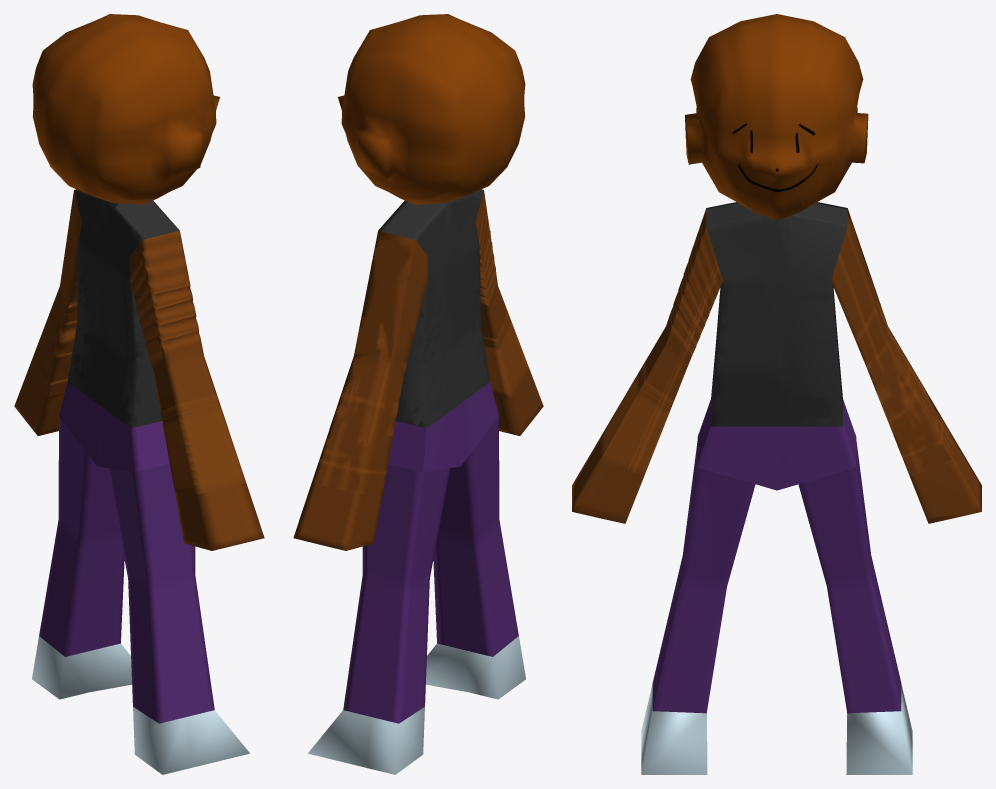
The model's file is Muscle_kun.fbx.
The picture shows the model from 3 angles, left to right: view 1: azimuth 30°, elevation 25°; view 2: azimuth 150°, elevation 25°; view 3: azimuth 270°, elevation 25°; orthographic projection. The views are drawn at different scales.
Visible parts, largest first — view 1: ズボン, 頭部, 右腕, 胴体, 靴, 左腕, 右手, 左手; view 2: ズボン, 頭部, 左腕, 胴体, 靴, 右腕, 左手, 右手; view 3: ズボン, 頭部, 胴体, 左腕, 右腕, 靴, 左手, 右手.
Part boxes in pixels (x1,y1,x2,y2): ズボン: (39,382,214,723); 頭部: (32,14,219,204); 右腕: (130,230,246,494); 胴体: (67,189,179,428); 靴: (32,636,249,774); 左腕: (28,191,82,398); 右手: (175,483,264,550); 左手: (14,370,63,435); ズボン: (343,382,518,723); 頭部: (338,14,525,204); 左腕: (311,230,427,494); 胴体: (378,189,490,428); 靴: (308,636,525,774); 右腕: (475,191,529,398); 左手: (293,483,382,550); 右手: (494,370,543,435); ズボン: (652,399,901,713); 頭部: (685,14,868,220); 胴体: (706,202,847,426); 左腕: (831,208,953,476); 右腕: (600,208,722,476); 靴: (641,684,912,774); 左手: (910,437,981,523); 右手: (572,437,643,523).
Bounding box in the file's own units: 58.41 × 224 × 115.
